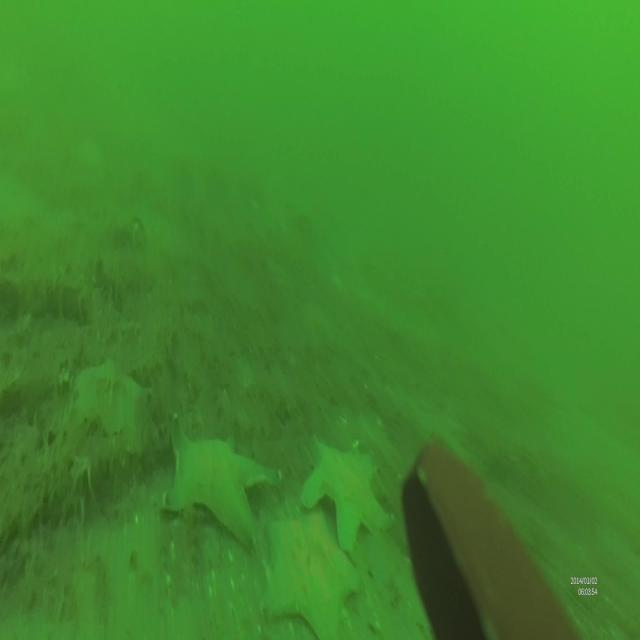starfish: (162, 413, 280, 551), (257, 506, 365, 639), (304, 438, 392, 554), (76, 359, 153, 454)
